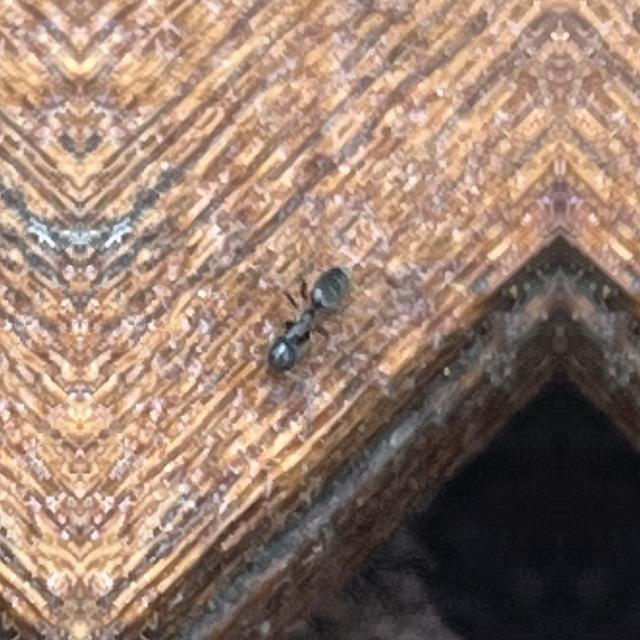Tapinoma: (246, 242, 360, 391)
